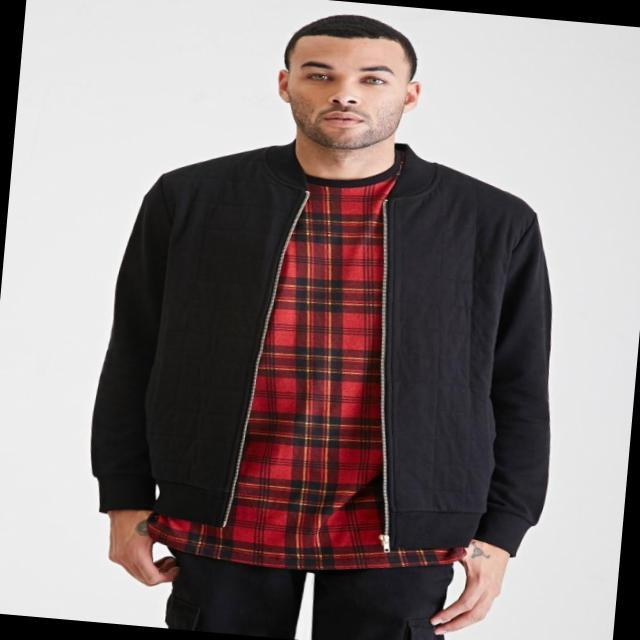jacket: (94, 140, 561, 559)
short sleeve shirt: (144, 165, 472, 569)
trousers: (162, 548, 456, 640)
